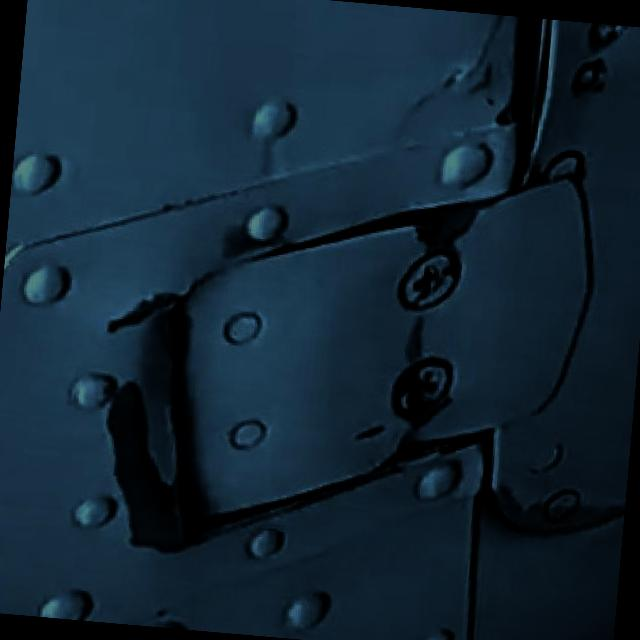crack: (411, 324, 434, 358)
